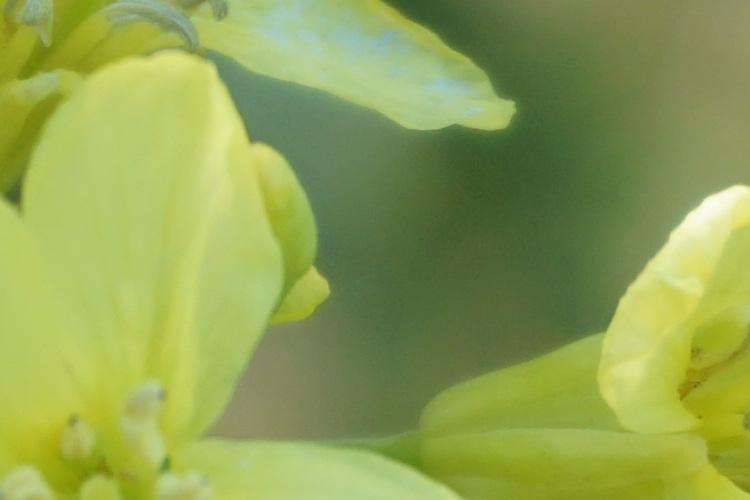yellow: (2, 63, 435, 500), (501, 180, 750, 500)
